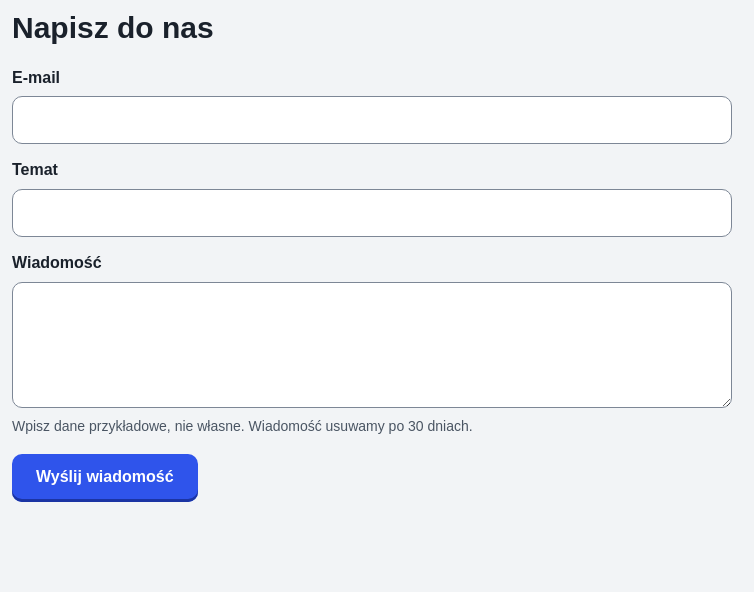
it: ContactForm (F-221) › 429: komunikat o odczekaniu, bez generate_lead, dane zostaja w formularzu
The image size is (754, 592).
Type "ola@taktyl.example" into the field labelled "E-mail" at (372, 120), box [12,96,732,144]
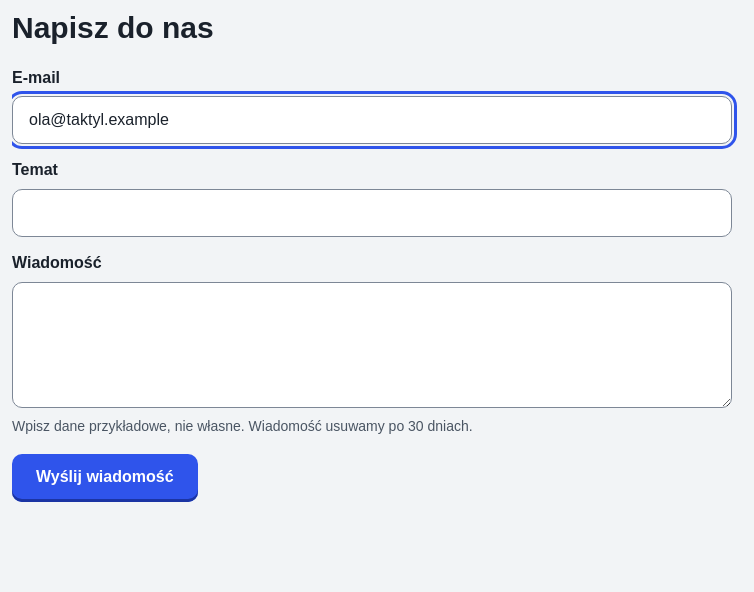
Type "Pytanie o set" into the field labelled "Temat" at (372, 213), box [12,189,732,237]
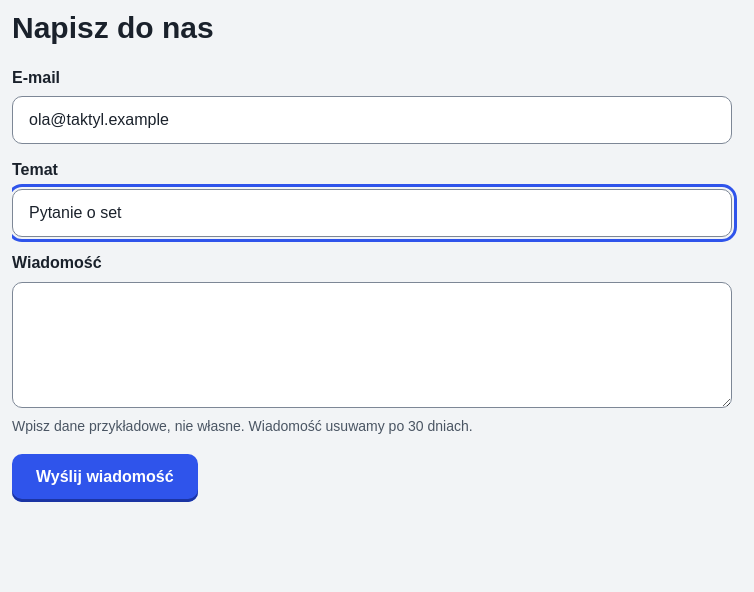
Type "Czy Bazalt 75 ma wersję cichą?" into the text box labelled "Wiadomość" at (372, 345), box [12,282,732,408]
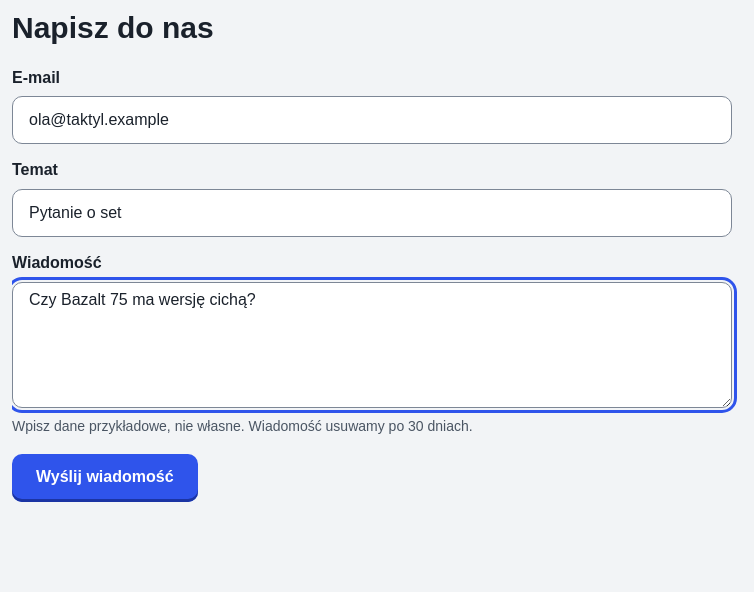
Click the button "Wyślij wiadomość" at (105, 478), box [12,454,198,502]
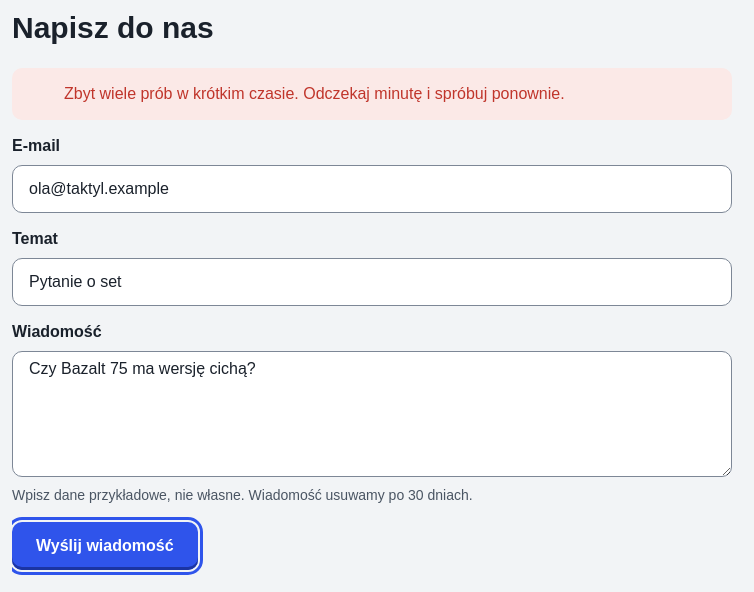
Expected: the text "Zbyt wiele prób" is shown, [64,84,565,102]
